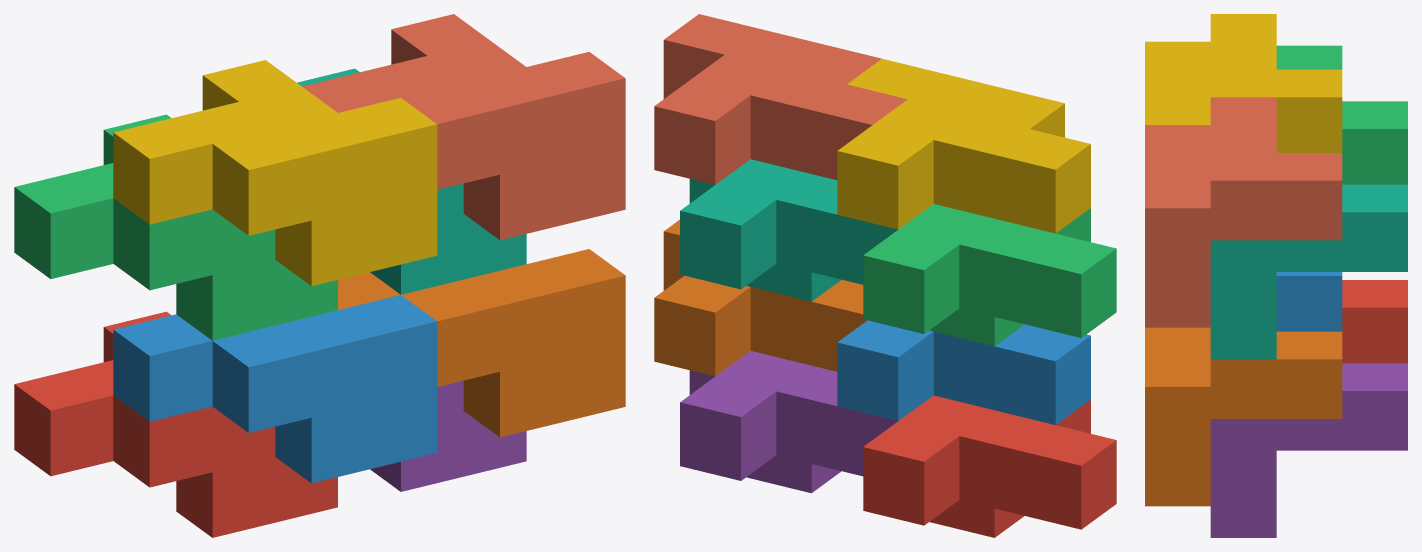
File: tiling.obj
The picture shows the model from 3 angles, left to right: view 1: azimuth 30°, elevation 25°; view 2: azimuth 150°, elevation 25°; view 3: azimuth 270°, elevation 25°; orthographic projection. The views are drawn at different scales.
Visible parts, largest first — view 1: copy_1_domain_4, copy_1_domain_2, copy_1_domain_8, copy_1_domain_6, copy_1_domain_1, copy_1_domain_3, copy_1_domain_7, copy_1_domain_5; view 2: copy_1_domain_4, copy_1_domain_8, copy_1_domain_3, copy_1_domain_1, copy_1_domain_5, copy_1_domain_7, copy_1_domain_2, copy_1_domain_6; view 3: copy_1_domain_8, copy_1_domain_6, copy_1_domain_4, copy_1_domain_7, copy_1_domain_5, copy_1_domain_3, copy_1_domain_1, copy_1_domain_2.
Part boxes in pixels (x1=…): copy_1_domain_4: x1=113, y1=60, x2=437, y2=286; copy_1_domain_2: x1=113, y1=295, x2=437, y2=483; copy_1_domain_8: x1=302, y1=14, x2=625, y2=240; copy_1_domain_6: x1=338, y1=249, x2=625, y2=437; copy_1_domain_1: x1=14, y1=311, x2=337, y2=537; copy_1_domain_3: x1=14, y1=114, x2=337, y2=340; copy_1_domain_7: x1=297, y1=68, x2=526, y2=294; copy_1_domain_5: x1=370, y1=380, x2=526, y2=491; copy_1_domain_4: x1=837, y1=58, x2=1090, y2=233; copy_1_domain_8: x1=654, y1=14, x2=907, y2=184; copy_1_domain_3: x1=863, y1=204, x2=1116, y2=346; copy_1_domain_1: x1=863, y1=395, x2=1116, y2=537; copy_1_domain_5: x1=680, y1=350, x2=897, y2=493; copy_1_domain_7: x1=680, y1=159, x2=897, y2=301; copy_1_domain_2: x1=837, y1=320, x2=1090, y2=424; copy_1_domain_6: x1=654, y1=219, x2=866, y2=376; copy_1_domain_8: x1=1145, y1=97, x2=1342, y2=327; copy_1_domain_6: x1=1145, y1=327, x2=1342, y2=506; copy_1_domain_4: x1=1145, y1=14, x2=1342, y2=152; copy_1_domain_7: x1=1210, y1=184, x2=1407, y2=359; copy_1_domain_5: x1=1210, y1=363, x2=1407, y2=537; copy_1_domain_3: x1=1276, y1=45, x2=1407, y2=184; copy_1_domain_1: x1=1342, y1=280, x2=1407, y2=363; copy_1_domain_2: x1=1276, y1=272, x2=1342, y2=331.
Bounding box in the file's own units: 8 × 6 × 4.
